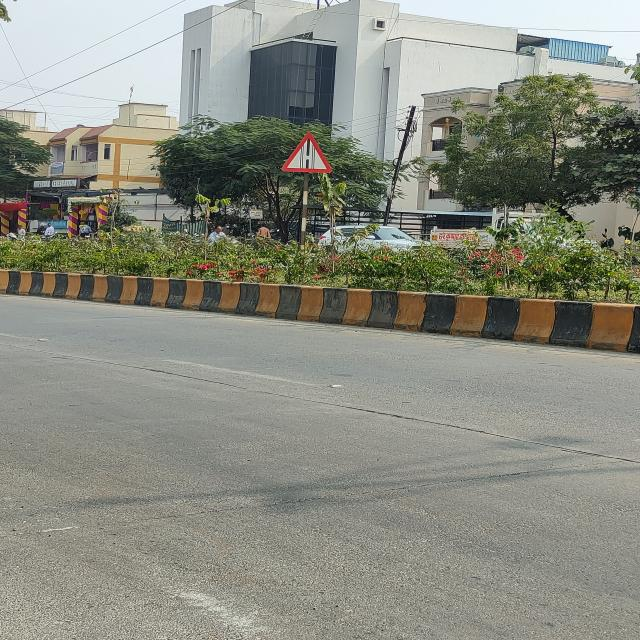GAP_IN_MEDIAN: (280, 131, 332, 173)
